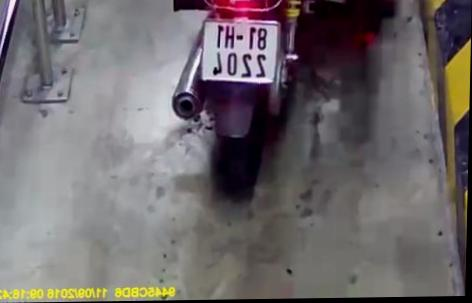License_Plate: (195, 16, 288, 94)
